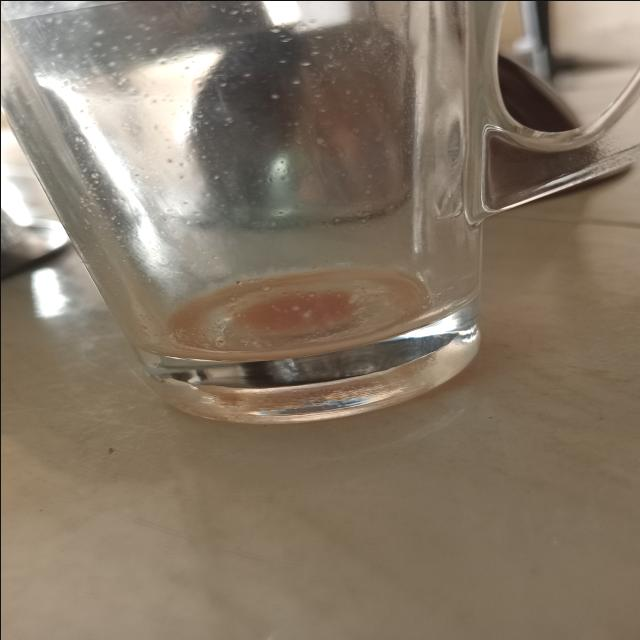glass-VX4N: (0, 0, 632, 401)
